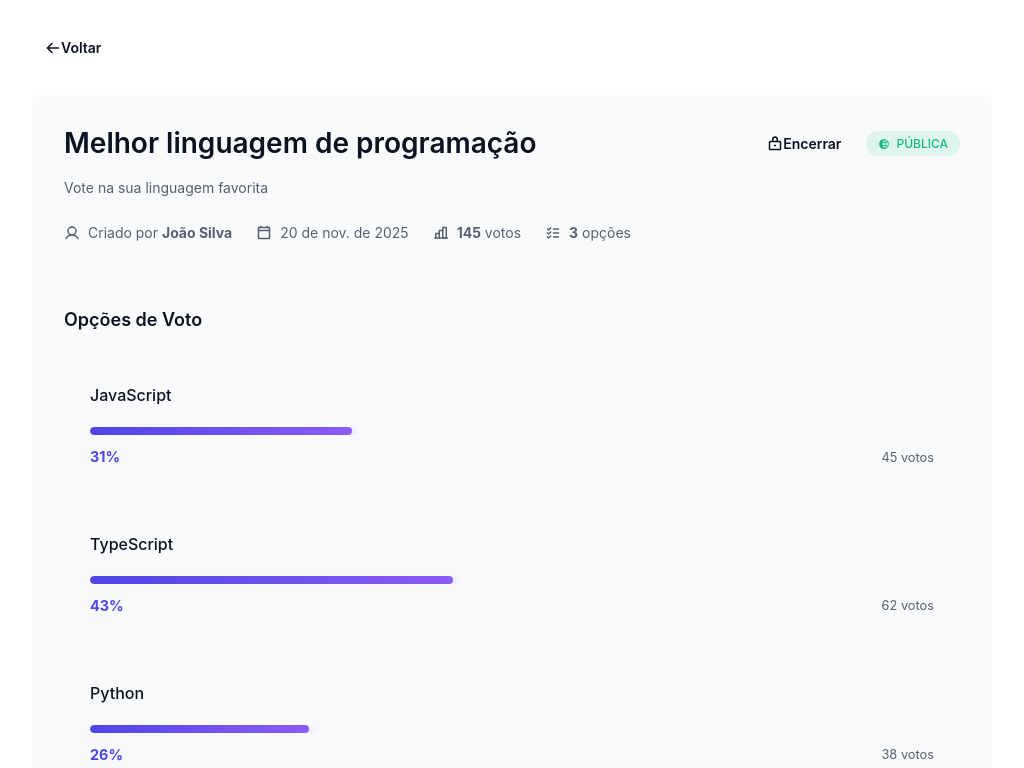
Test: PollDetailsPage › Estados de loading › deve exibir "Encerrando..." durante encerramento
Expected: the text "Encerrar" is shown, [767,135,841,152]
Click the button "Encerrar" at (804, 144), box [754,128,854,159]
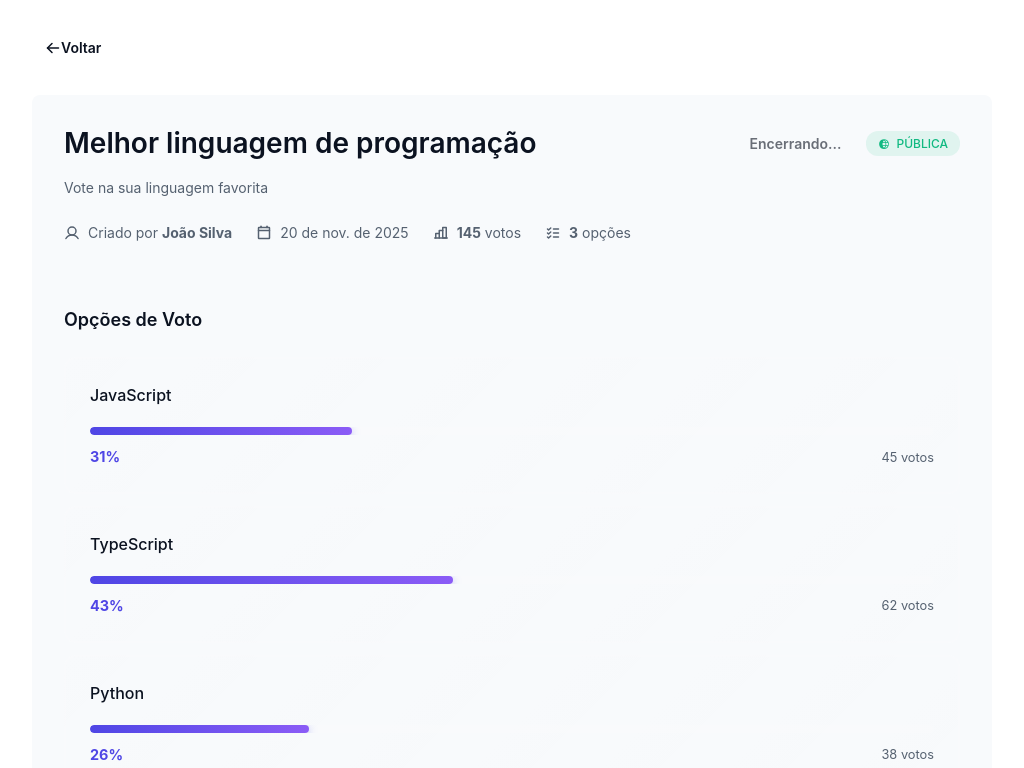
Expected: the text "Encerrando..." is shown, [750,135,842,152]
